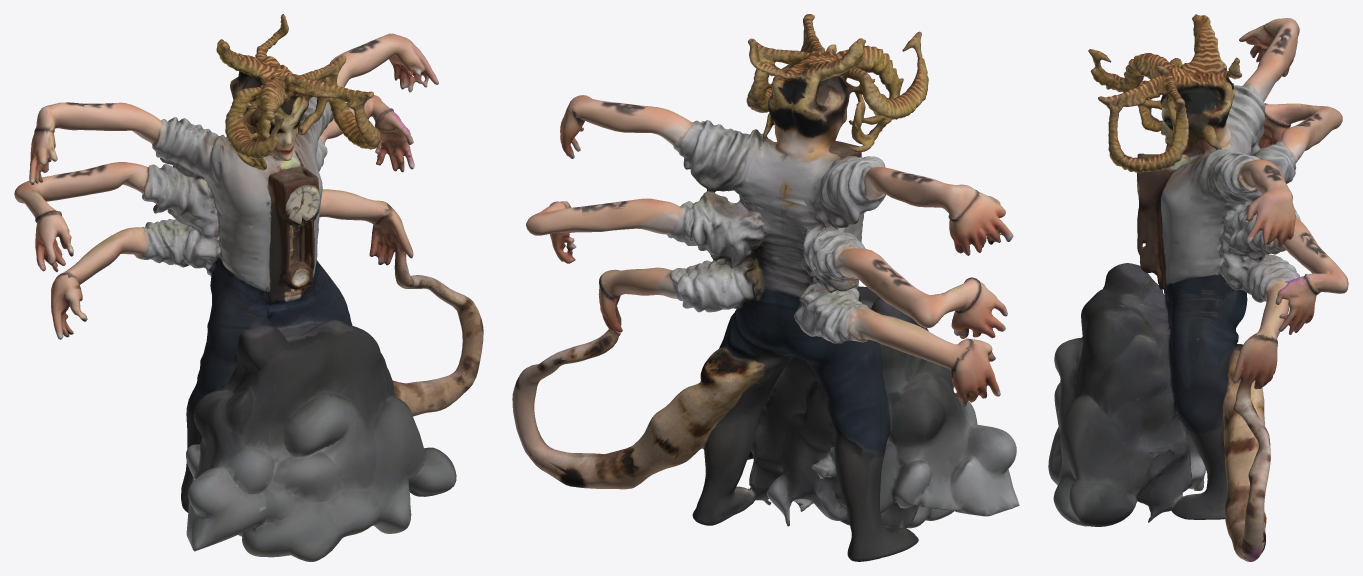
Rendered from Chimera.glb.
3 views of the same model, side by side, from view 1: azimuth 30°, elevation 25°; view 2: azimuth 150°, elevation 25°; view 3: azimuth 270°, elevation 25° (orthographic). The views are drawn at different scales.
Visible parts, largest first — view 1: Mesh_0; view 2: Mesh_0; view 3: Mesh_0.
Part boxes in pixels (left/top/right/bottom): Mesh_0: left=14, top=14, right=483, bottom=561; Mesh_0: left=512, top=14, right=1019, bottom=561; Mesh_0: left=1048, top=14, right=1348, bottom=561.
Size of the model in its own units: 2 by 1.99 by 1.18.
Materials: 1 (1 with a texture image).
